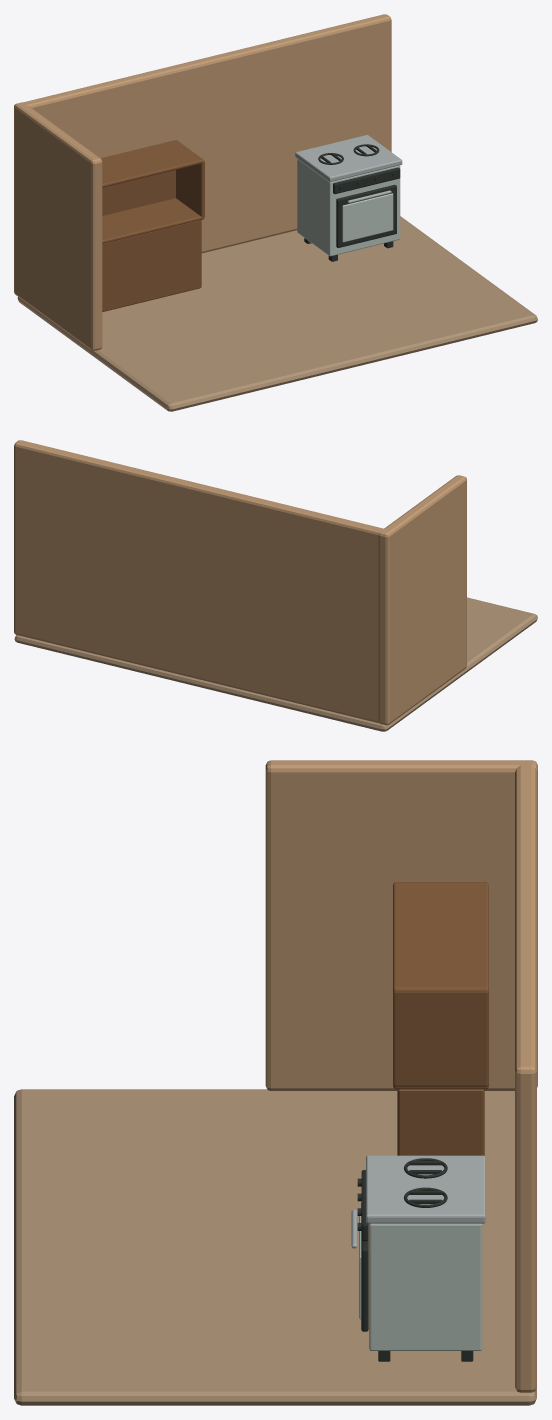
File: mdl_ra4_entorno_cocina.fbx
The picture shows the model from 3 angles, top to bottom: view 1: azimuth 30°, elevation 25°; view 2: azimuth 150°, elevation 25°; view 3: azimuth 270°, elevation 25°; orthographic projection. The views are drawn at different scales.
Visible parts, largest first — view 1: SM_Suelo_Cocina, SM_Pared_Fondo, SM_Pared_Lateral, SM_Cocina_Compacta, SM_Despensa_Base, SM_Despensa_Repisa_Superior, SM_Despensa_Repisa, SM_Despensa_Trasera, SM_Despensa_Lateral.001; view 2: SM_Pared_Fondo, SM_Pared_Lateral, SM_Suelo_Cocina; view 3: SM_Suelo_Cocina, SM_Pared_Fondo, SM_Pared_Lateral, SM_Cocina_Compacta, SM_Despensa_Repisa_Superior, SM_Despensa_Lateral.001, SM_Despensa_Base.
Part boxes in pixels (x1=…): SM_Suelo_Cocina: x1=17, y1=216, x2=537, y2=411; SM_Pared_Fondo: x1=14, y1=14, x2=391, y2=348; SM_Pared_Lateral: x1=14, y1=105, x2=102, y2=350; SM_Cocina_Compacta: x1=295, y1=135, x2=402, y2=261; SM_Despensa_Base: x1=102, y1=220, x2=201, y2=311; SM_Despensa_Repisa_Superior: x1=101, y1=140, x2=204, y2=187; SM_Despensa_Repisa: x1=102, y1=198, x2=204, y2=243; SM_Despensa_Trasera: x1=102, y1=170, x2=175, y2=215; SM_Despensa_Lateral.001: x1=176, y1=161, x2=204, y2=217; SM_Pared_Fondo: x1=14, y1=440, x2=466, y2=725; SM_Pared_Lateral: x1=378, y1=480, x2=466, y2=725; SM_Suelo_Cocina: x1=14, y1=597, x2=537, y2=731; SM_Suelo_Cocina: x1=14, y1=1089, x2=536, y2=1405; SM_Pared_Fondo: x1=265, y1=760, x2=537, y2=1392; SM_Pared_Lateral: x1=265, y1=762, x2=537, y2=1090; SM_Cocina_Compacta: x1=351, y1=1155, x2=485, y2=1361; SM_Despensa_Repisa_Superior: x1=393, y1=882, x2=488, y2=991; SM_Despensa_Lateral.001: x1=393, y1=990, x2=488, y2=1086; SM_Despensa_Base: x1=397, y1=1089, x2=484, y2=1155.
Size of the model in its own units: 3.37 by 1.72 by 2.41.
